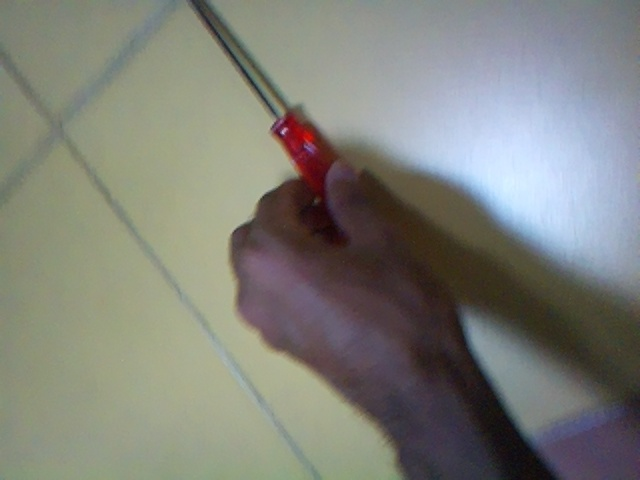redskrew: (161, 1, 342, 191)
